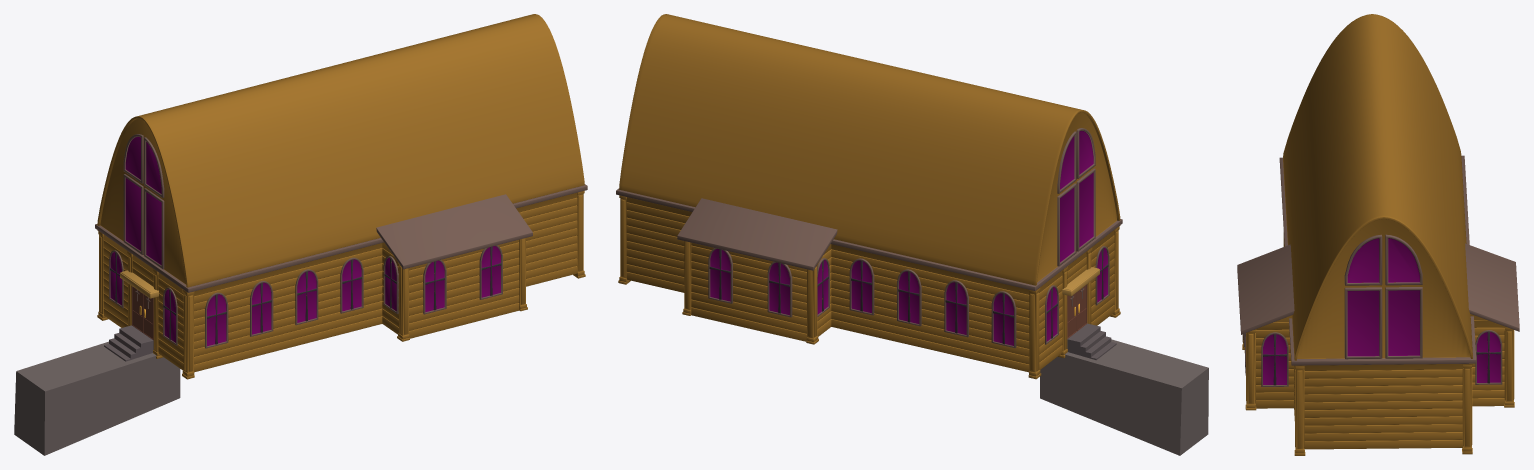
File: church_compressed (1).glb
3 views of the same model, side by side, from view 1: azimuth 30°, elevation 25°; view 2: azimuth 150°, elevation 25°; view 3: azimuth 270°, elevation 25° (orthographic). The views are drawn at different scales.
Parts seen in each view (by area): view 1: Cube.138, Cube.149, Cube.156, Cube.157, Cube.145, Cube.141; view 2: Cube.138, Cube.149, Cube.156, Cube.157, Cube.145, Cube.141; view 3: Cube.138, Cube.156, Cube.157.
Part boxes in pixels (<box>): Cube.138: <box>95,14,587,379</box>; Cube.149: <box>14,341,180,455</box>; Cube.156: <box>110,136,500,346</box>; Cube.157: <box>110,246,501,344</box>; Cube.145: <box>104,325,153,361</box>; Cube.141: <box>132,286,153,340</box>; Cube.138: <box>616,14,1122,379</box>; Cube.149: <box>1040,339,1208,455</box>; Cube.156: <box>710,131,1107,345</box>; Cube.157: <box>709,248,1108,344</box>; Cube.145: <box>1067,323,1116,360</box>; Cube.141: <box>1067,284,1087,338</box>; Cube.138: <box>1237,14,1519,455</box>; Cube.156: <box>1263,238,1500,384</box>; Cube.157: <box>1243,332,1500,385</box>.
Size of the model in its own units: 6.78 by 3.73 by 3.09.
